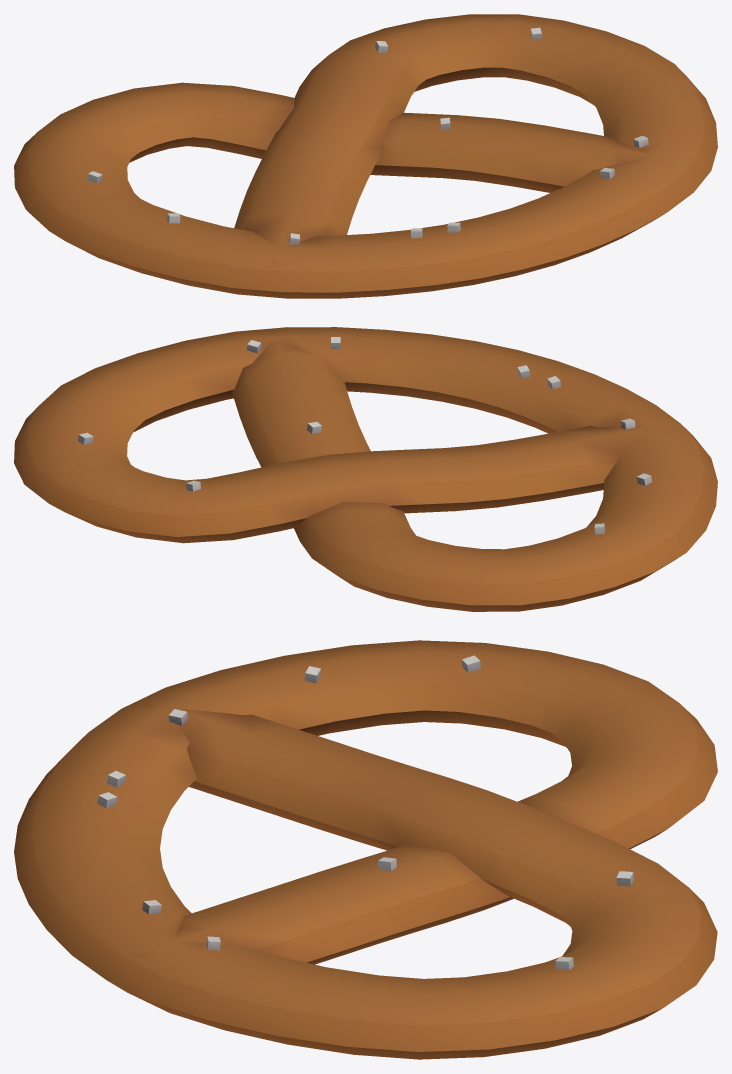
Rendered from pretzel.glb.
The picture shows the model from 3 angles, top to bottom: view 1: azimuth 30°, elevation 25°; view 2: azimuth 150°, elevation 25°; view 3: azimuth 270°, elevation 25°; orthographic projection. The views are drawn at different scales.
Parts seen in each view (by area): view 1: body; view 2: body; view 3: body.
Boxes of the visible parts, x1=… form: body: x1=14, y1=14, x2=717, y2=298; body: x1=14, y1=327, x2=717, y2=611; body: x1=14, y1=640, x2=717, y2=1059.
Bounding box in the file's own units: 0.9199 × 0.08 × 0.6847.
